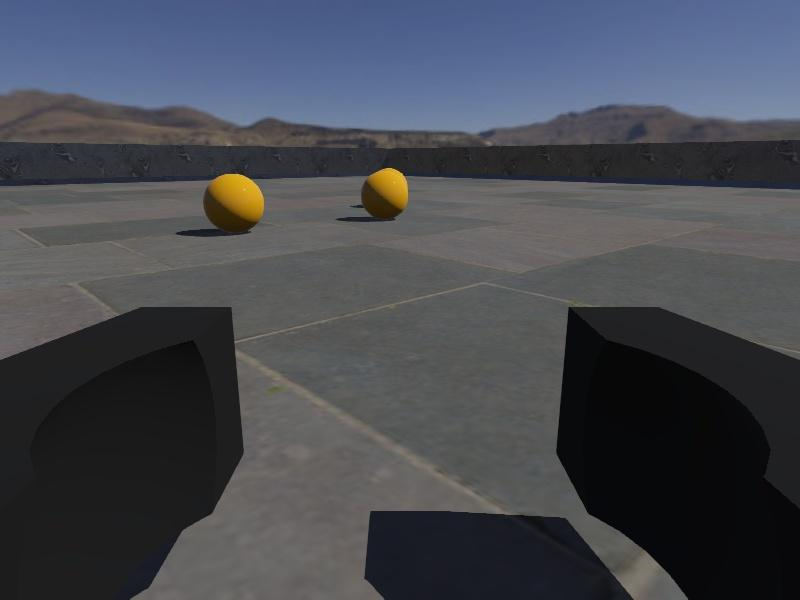orange ball: (202, 172, 266, 235), (360, 169, 410, 222)
